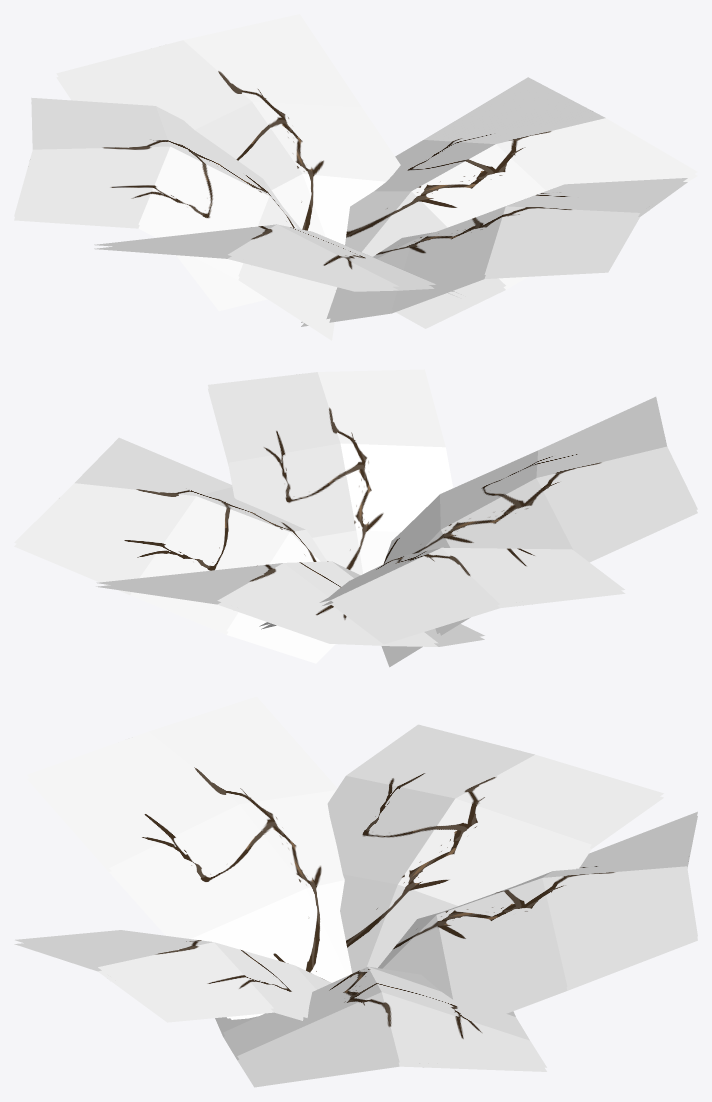
Rendered from Ferns03.fbx.
3 views of the same model, one above another, from view 1: azimuth 30°, elevation 25°; view 2: azimuth 150°, elevation 25°; view 3: azimuth 270°, elevation 25° (orthographic). The views are drawn at different scales.
Parts seen in each view (by area): view 1: Fern03; view 2: Fern03; view 3: Fern03.
Part boxes in pixels (x1,y1,x2,y2): Fern03: [14, 14, 697, 340]; Fern03: [14, 369, 697, 667]; Fern03: [14, 696, 697, 1087].
Bounding box in the file's own units: 1.76 × 0.4189 × 1.64.
1 material, 1 textured.
